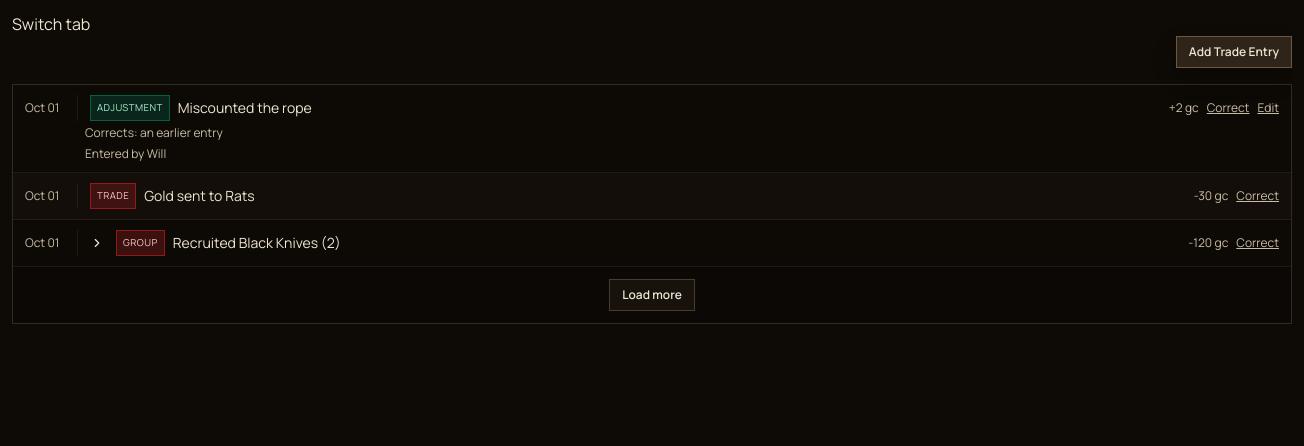
TreasuryTab: the ledger › reads 25 rows a page and loads the next with the cursor (ECON-PERF-06)
Expected: the text "Gold sent to Rats" is shown, [144,186,255,205]
Click the button "Load more": coordinates (652, 295) [609,279,695,311]
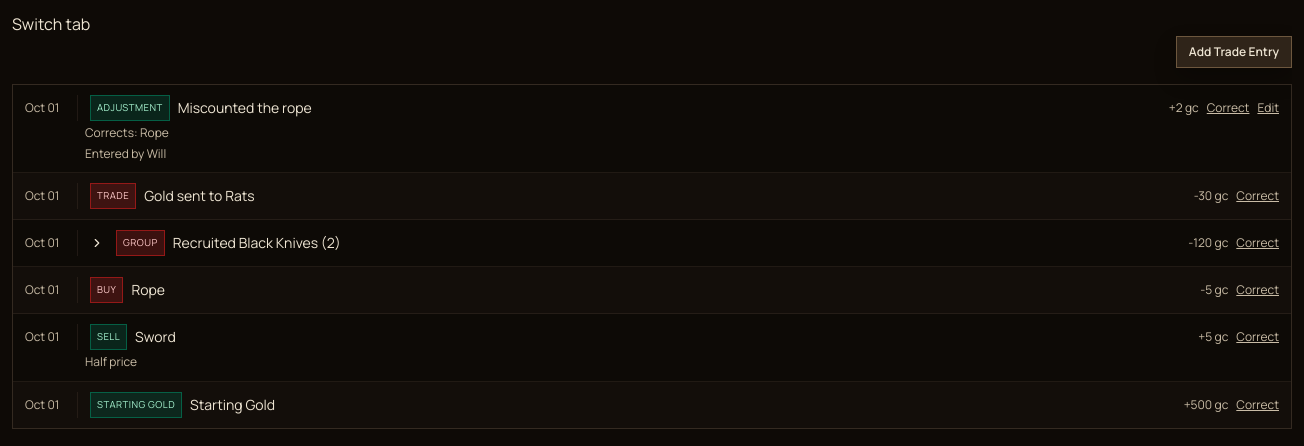
Expected: the text "Gold sent to Rats" is shown, [144,186,255,205]
Now the text "Rope" is shown, box [131,280,165,299]
Now the button "Load more" is gone
